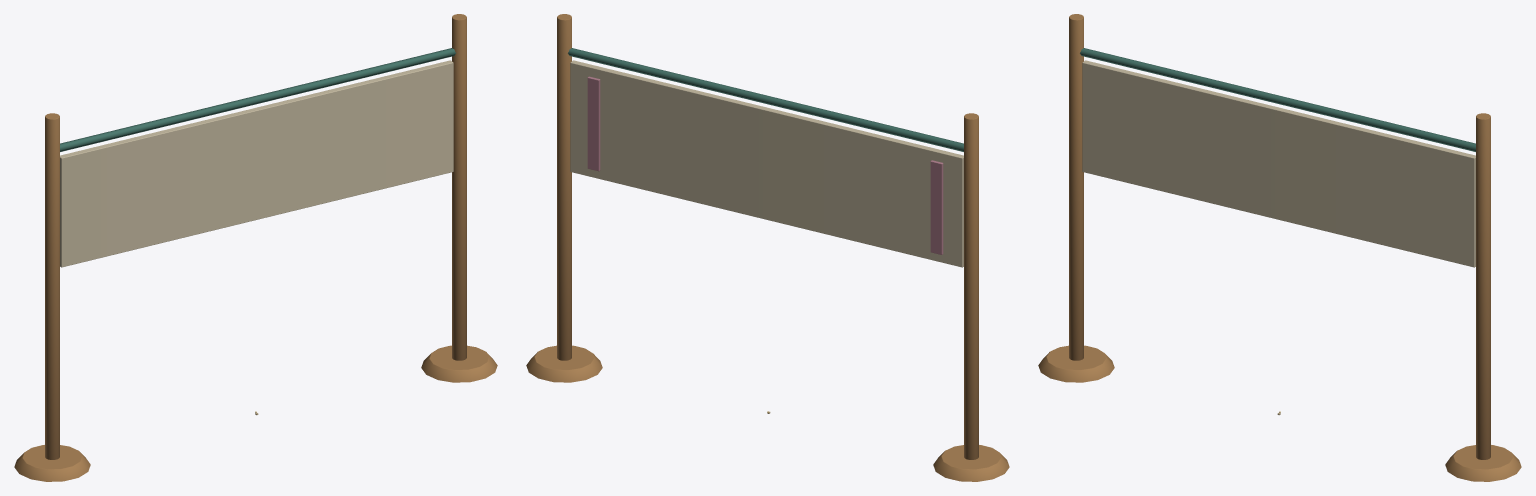
The model's file is birthday_banner.glb.
3 views of the same model, side by side, from view 1: azimuth 30°, elevation 25°; view 2: azimuth 150°, elevation 25°; view 3: azimuth 330°, elevation 25° (orthographic).
Size of the model in its own units: 3.26 by 2.3 by 0.4458.
